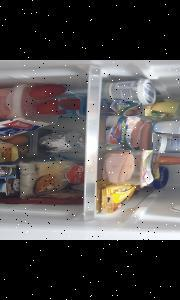Huevos: (1, 136, 27, 144), (0, 140, 17, 149)
Queso: (16, 160, 82, 199), (106, 80, 156, 106), (152, 134, 180, 153)
Salchichas: (105, 116, 150, 150), (116, 103, 141, 116)
Tomate: (28, 84, 66, 99), (35, 100, 65, 114), (57, 99, 79, 110)
Yogur: (0, 165, 26, 178)
